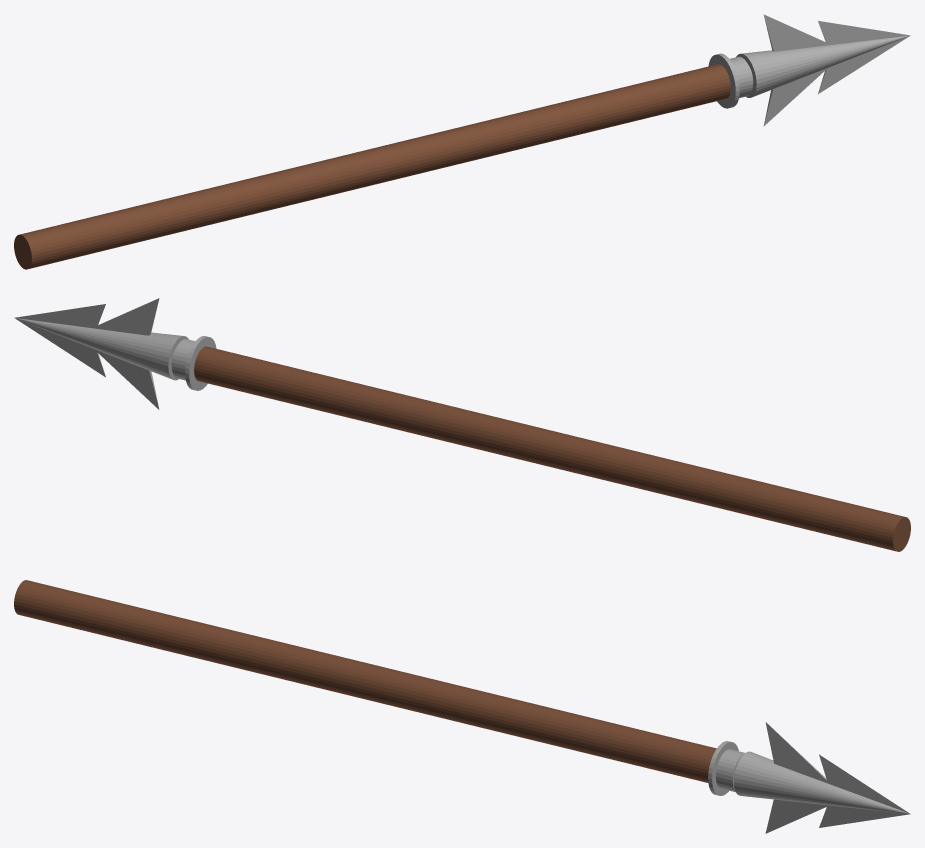
The model's file is Arrow.fbx.
3 views of the same model, one above another, from view 1: azimuth 30°, elevation 25°; view 2: azimuth 150°, elevation 25°; view 3: azimuth 330°, elevation 25° (orthographic).
Visible parts, largest first — view 1: Arrow; view 2: Arrow; view 3: Arrow.
Boxes of the visible parts, x1=… form: Arrow: x1=14, y1=14, x2=910, y2=269; Arrow: x1=14, y1=298, x2=910, y2=551; Arrow: x1=14, y1=580, x2=910, y2=833.
Size of the model in its own units: 17.16 by 2.08 by 0.9282.
